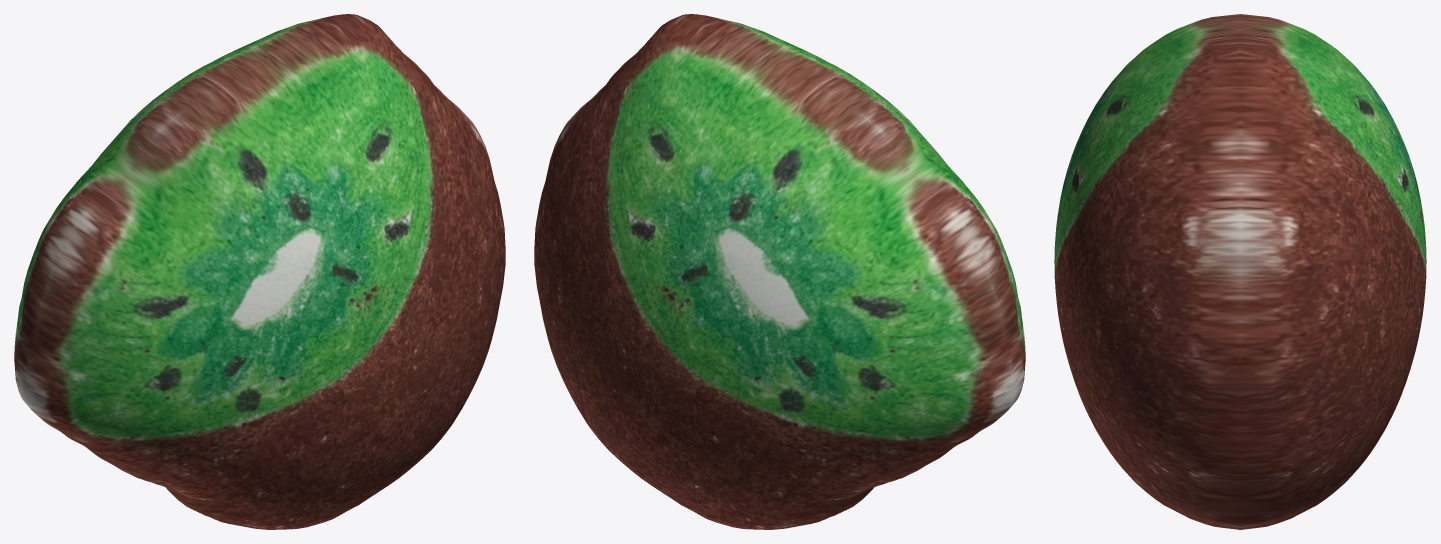
The model's file is kiwi.glb.
3 views of the same model, side by side, from view 1: azimuth 30°, elevation 25°; view 2: azimuth 150°, elevation 25°; view 3: azimuth 270°, elevation 25° (orthographic). The views are drawn at different scales.
Size of the model in its own units: 4.08 by 4.07 by 2.72.
1 material, 1 textured.
